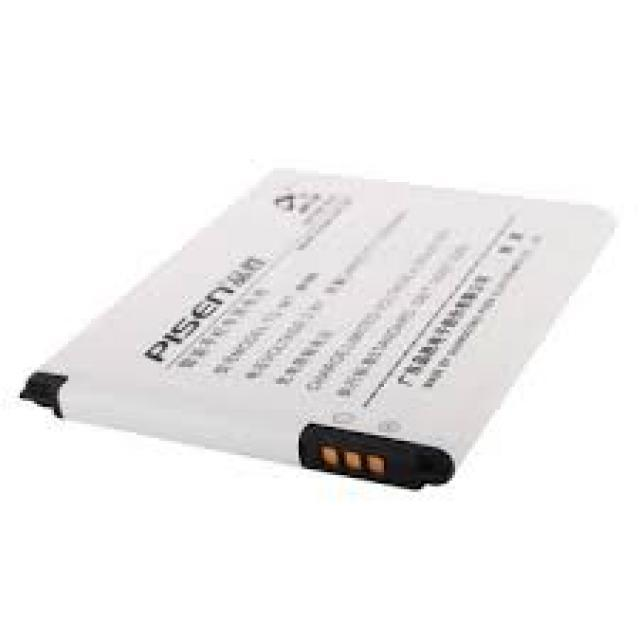battery: (22, 168, 616, 493)
